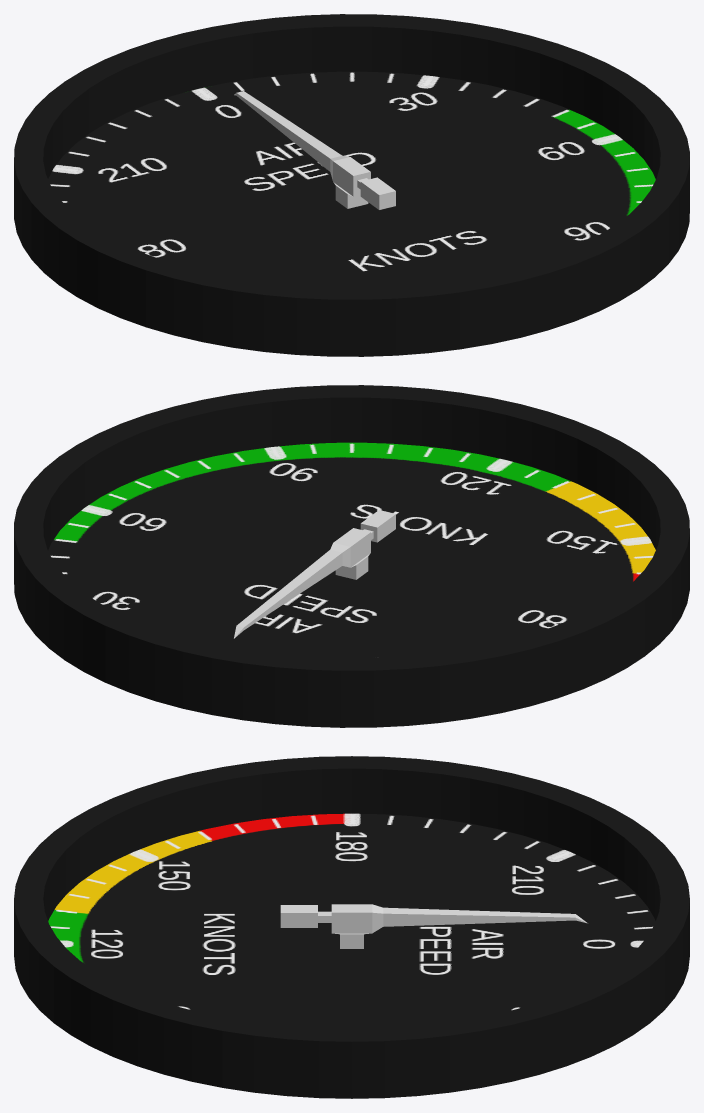
Rendered from InstrumentsAirSpeed.fbx.
The picture shows the model from 3 angles, top to bottom: view 1: azimuth 30°, elevation 25°; view 2: azimuth 150°, elevation 25°; view 3: azimuth 270°, elevation 25°; orthographic projection.
Visible parts, largest first — view 1: ChassisAirSpeed, IndicatorAirSpeed; view 2: ChassisAirSpeed, IndicatorAirSpeed; view 3: ChassisAirSpeed, IndicatorAirSpeed.
Part boxes in pixels (<box>): ChassisAirSpeed: <box>14,14,689,356</box>; IndicatorAirSpeed: <box>234,91,395,209</box>; ChassisAirSpeed: <box>14,385,689,727</box>; IndicatorAirSpeed: <box>234,510,395,638</box>; ChassisAirSpeed: <box>14,756,689,1098</box>; IndicatorAirSpeed: <box>280,904,587,948</box>.
Bounding box in the file's own units: 130 × 12.14 × 130.
